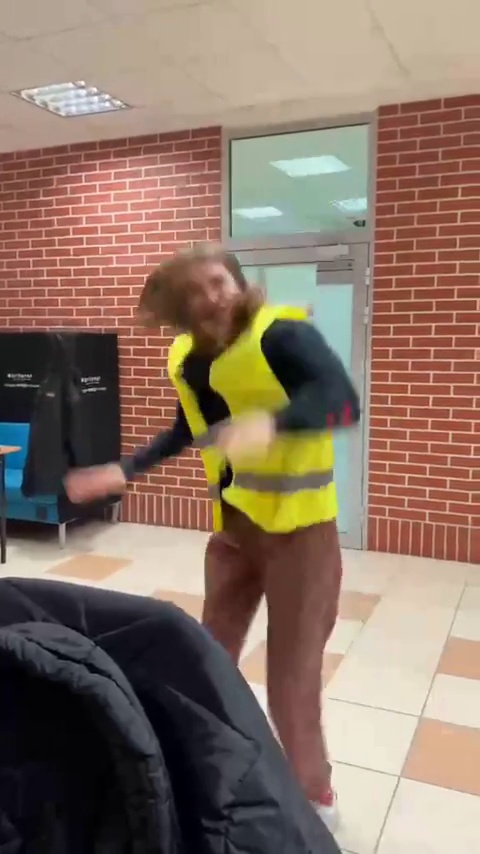vest: (129, 243, 374, 837)
